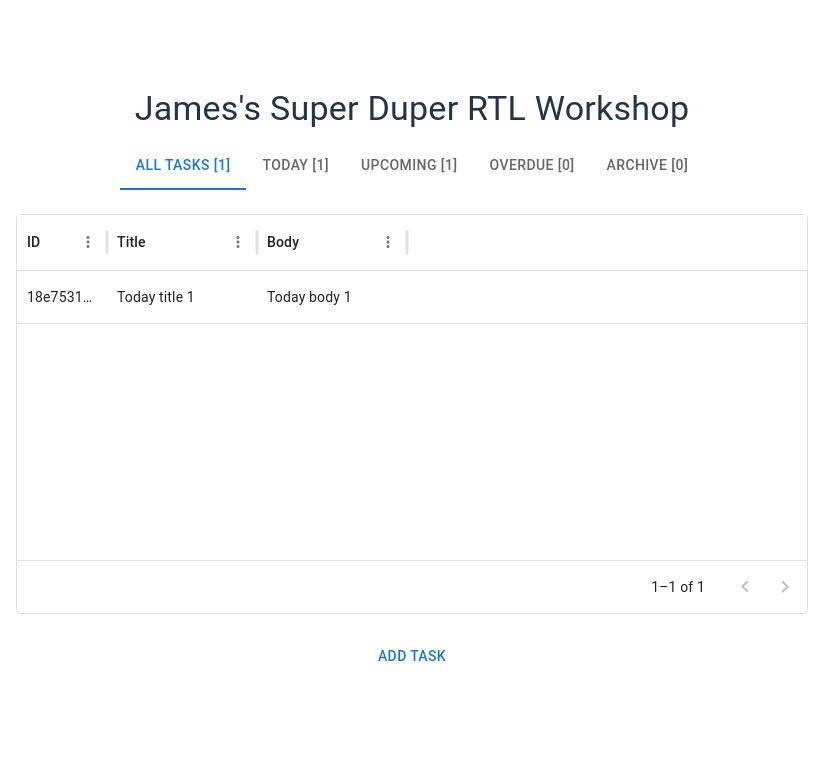
Test case: TasksDashboard › opens the add task form when selected
Check: the button "Submit" is not shown
// -------------------- Act --------------------
What coordinates should you click on to do the following:
click the button "Add task"
I would click on:
 (412, 656)
Its box is [370, 638, 454, 674].
(page scrolled)
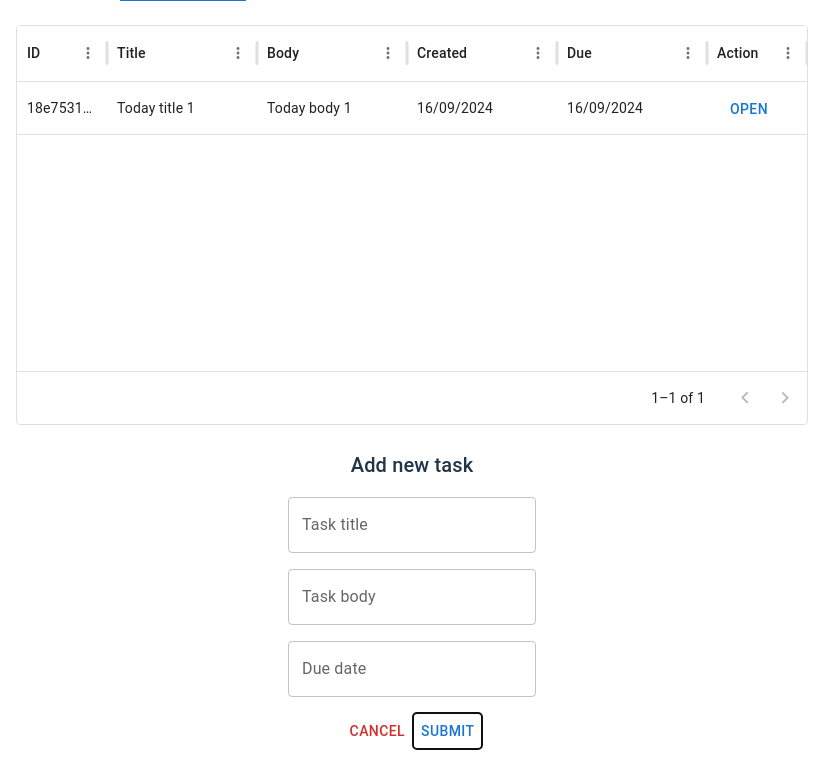
Check: the button "Cancel" is shown, box [342, 713, 413, 749]
Check: the button "Submit" is shown, box [413, 713, 482, 749]
